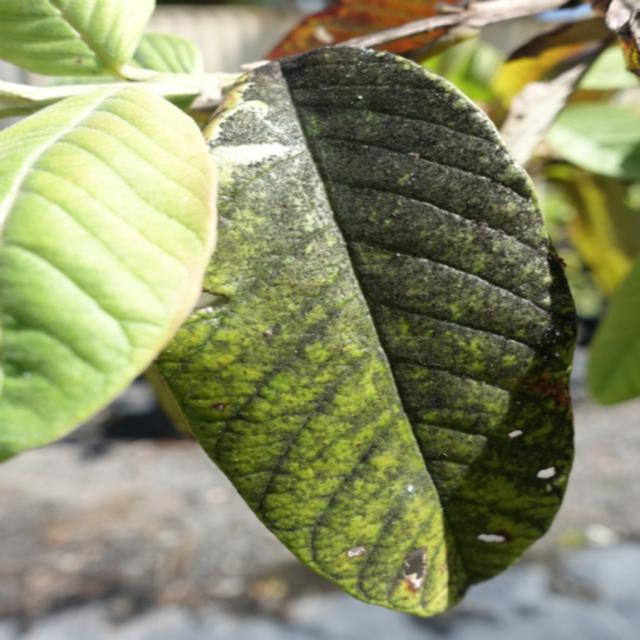Sooty Mold: (146, 43, 580, 618)
